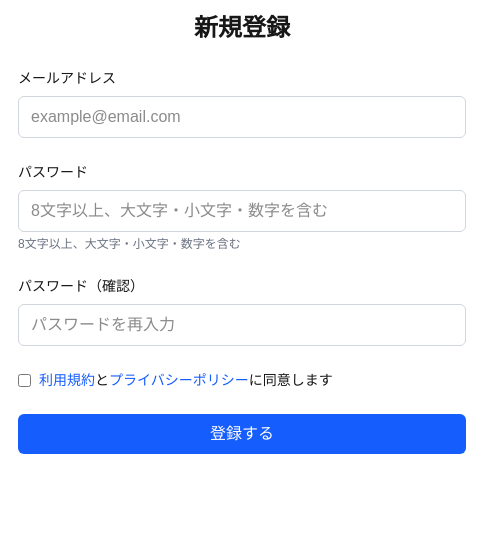
Test: SignUpForm › 利用規約に同意していない場合エラーが表示されること
Step 1. Type "test@example.com" into the field labelled "メールアドレス" → (242, 117), box [18,96,466,138]
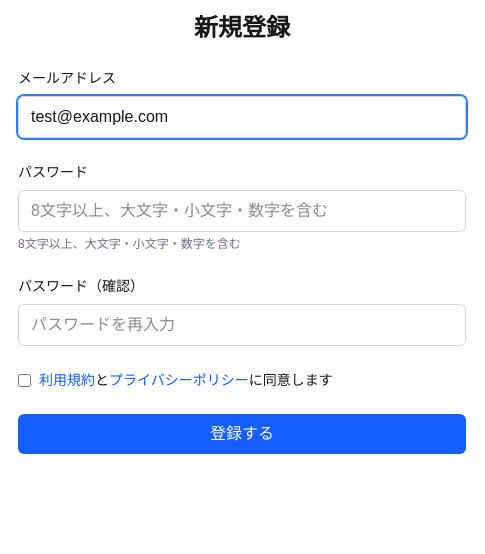
Step 2. Type "Password123" into the password field labelled "パスワード" → (242, 211), box [18,190,466,232]
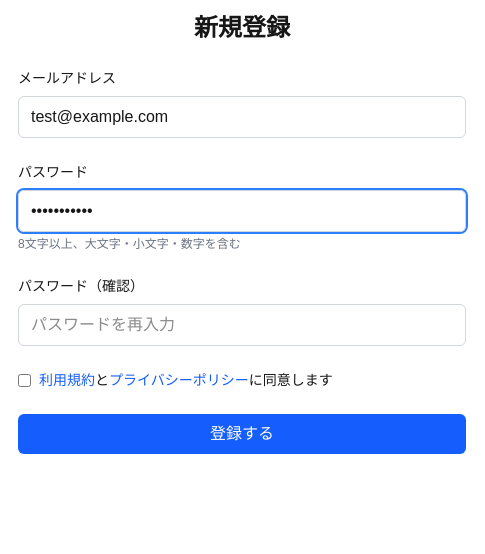
Step 3. Type "Password123" into the password field labelled "パスワード（確認）" → (242, 325), box [18,304,466,346]
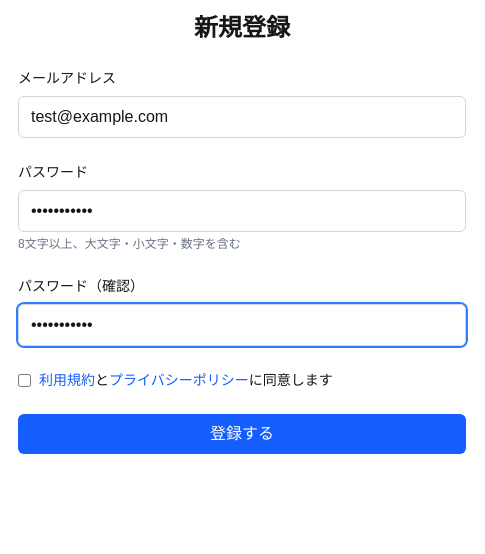
Step 4. Click the button "登録する" → (242, 434), box [18,414,466,454]
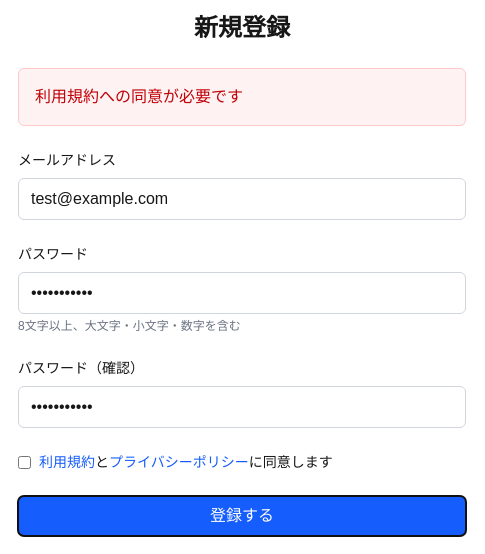
Result: the text "利用規約への同意が必要です" is shown at [18,68,466,126]
